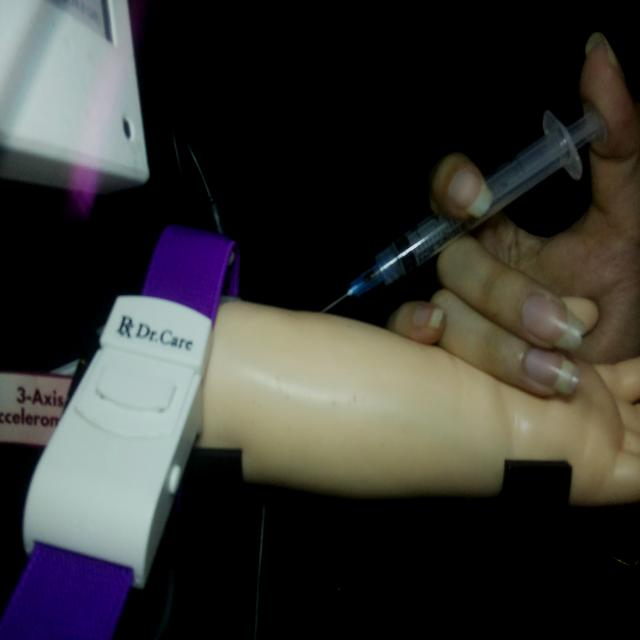23 degrees: (320, 103, 608, 315)
